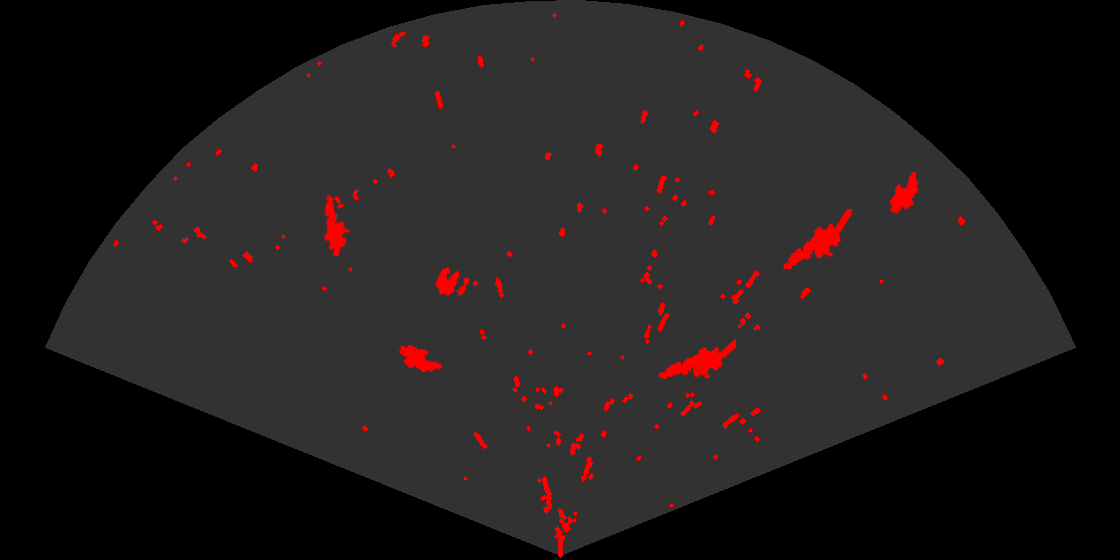AUV: (888, 170, 920, 216), (397, 343, 444, 374)
ball: (434, 265, 471, 297)
frogman: (781, 209, 852, 271), (657, 337, 736, 381), (322, 193, 351, 256)
